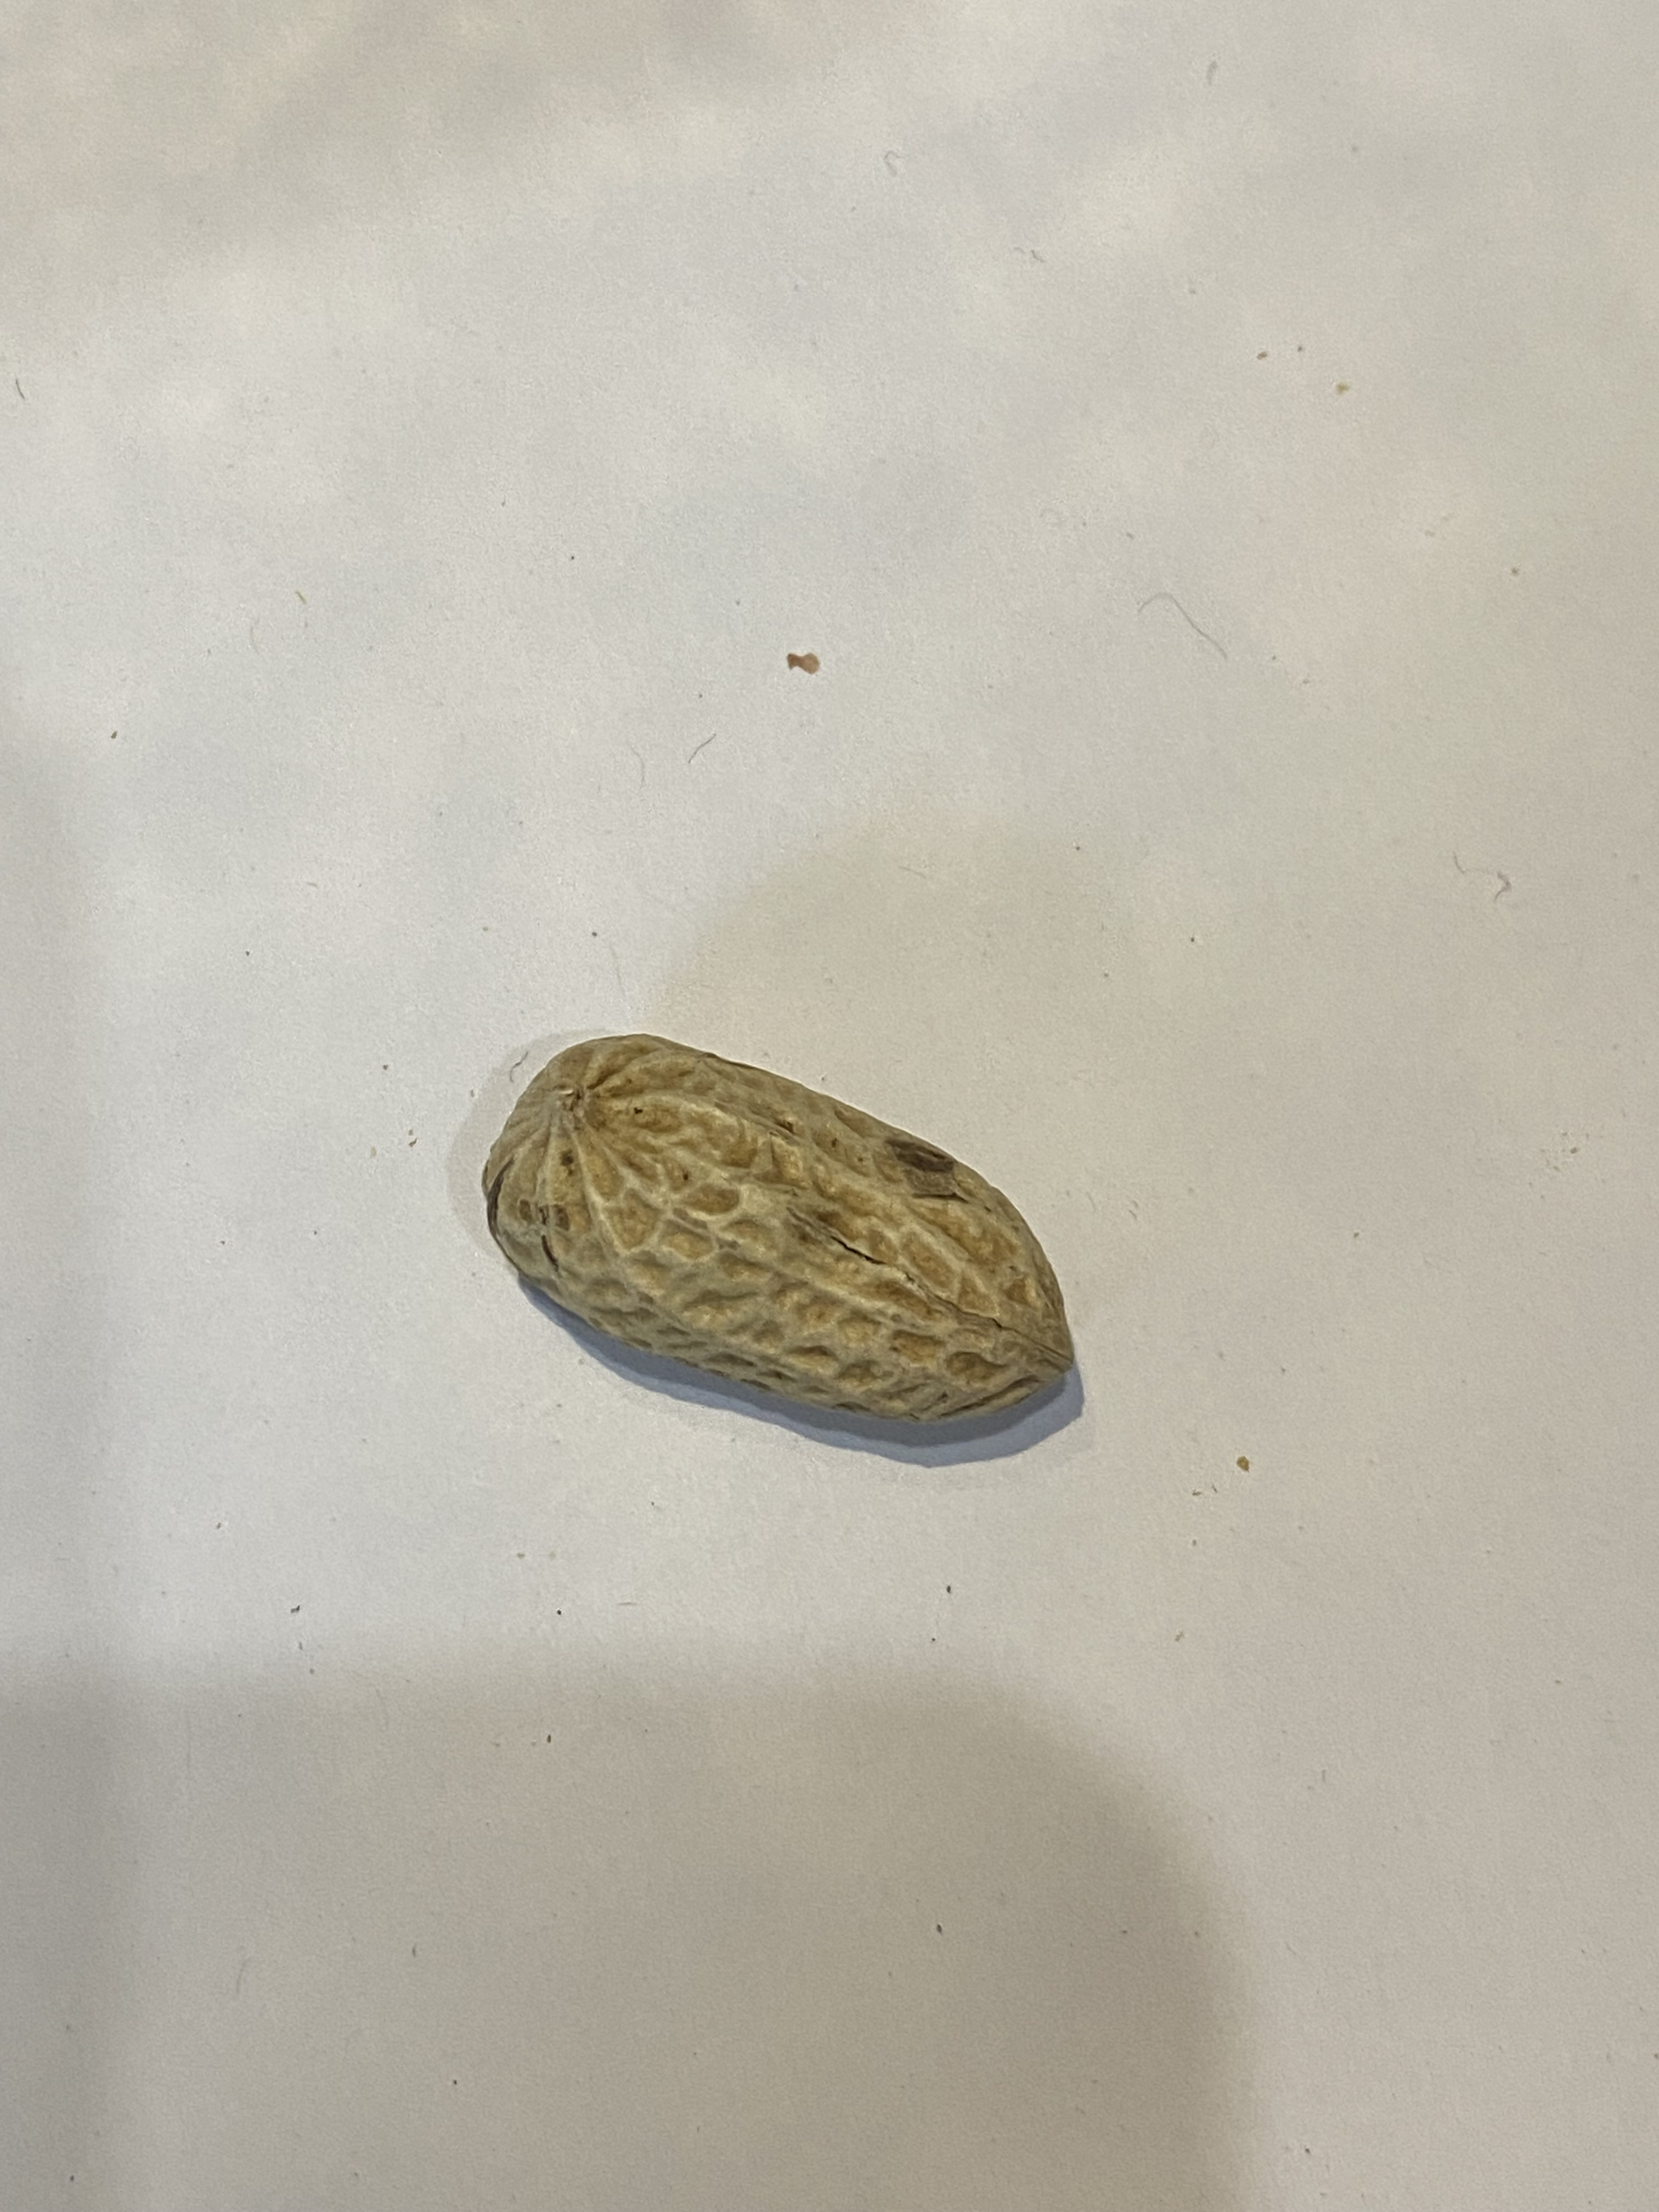kacang2: (460, 1028, 1101, 1449)
